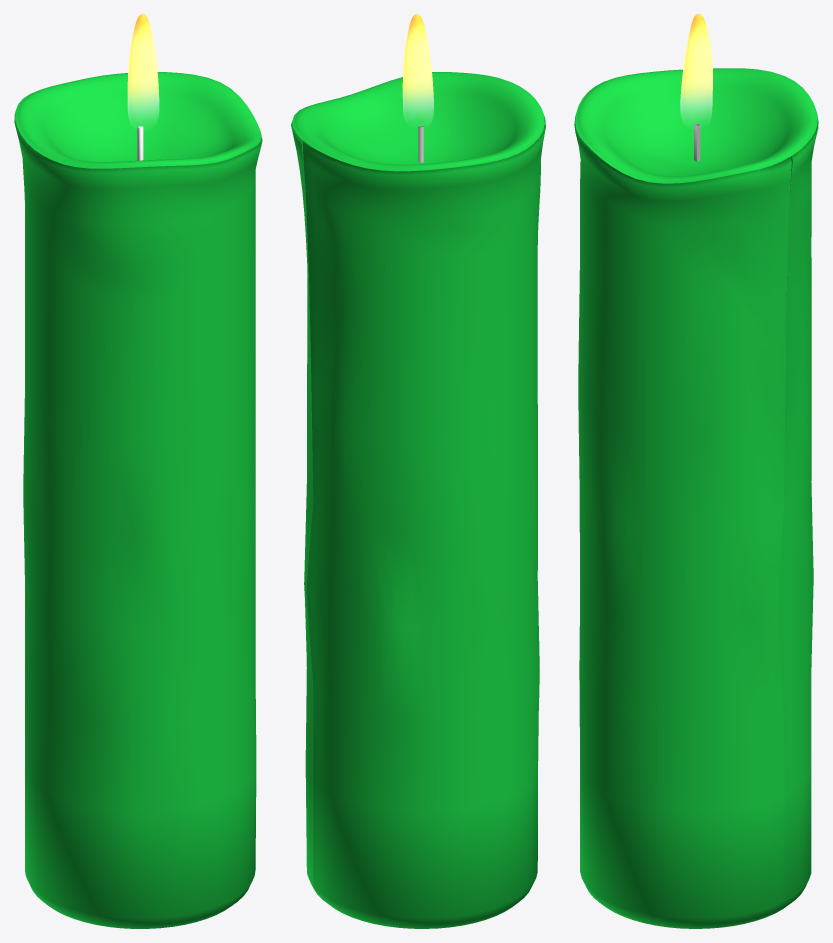
Rendered from ZTallCandleAnimatedFlame.glb.
The picture shows the model from 3 angles, left to right: view 1: azimuth 30°, elevation 25°; view 2: azimuth 150°, elevation 25°; view 3: azimuth 270°, elevation 25°; orthographic projection.
Visible parts, largest first — view 1: Candle1, Flame; view 2: Candle1, Flame; view 3: Candle1, Flame.
Boxes of the visible parts, left/top/right/bottom form: Candle1: left=14, top=72, right=262, bottom=928; Flame: left=127, top=14, right=159, bottom=121; Candle1: left=291, top=72, right=545, bottom=928; Flame: left=402, top=14, right=433, bottom=121; Candle1: left=574, top=68, right=818, bottom=928; Flame: left=680, top=14, right=712, bottom=121.
Bounding box in the file's own units: 0.9986 × 3.86 × 0.9787.
Materials: 3 (1 with a texture image).
